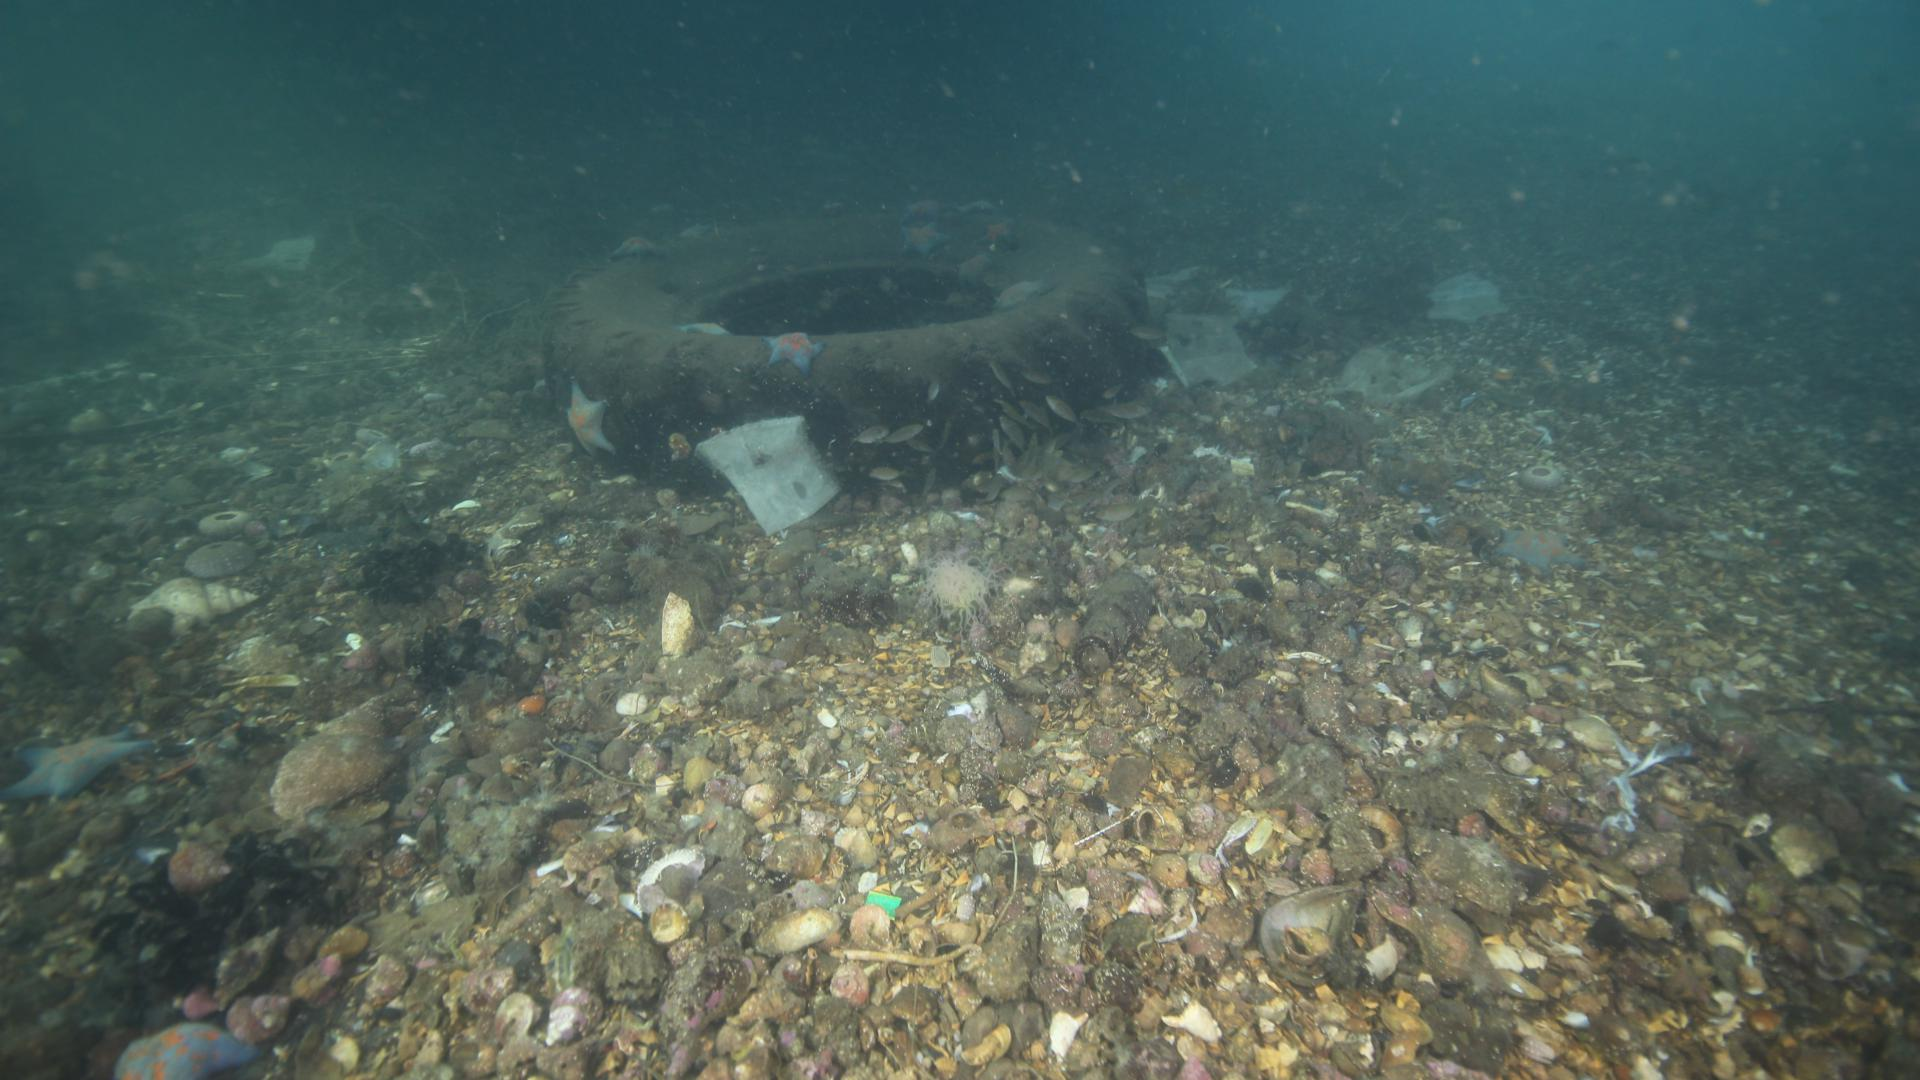tire: (545, 206, 1143, 493)
